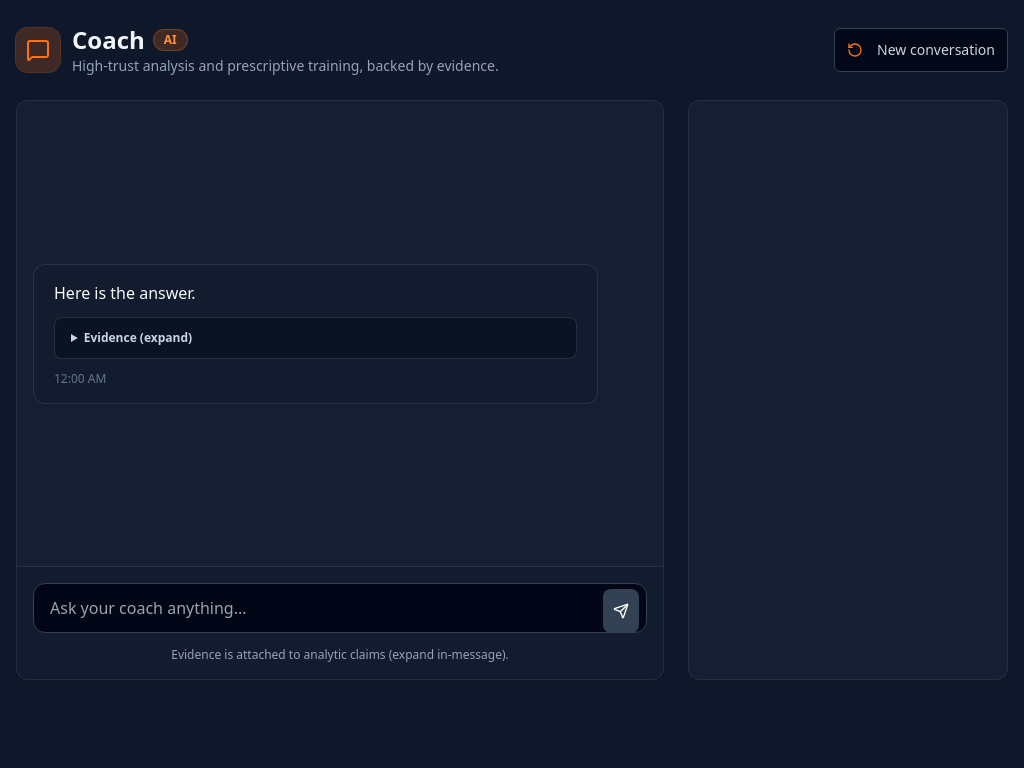
Test: Subscriber value deep-dive (Manual redirect + PBs + Coach evidence) › renders Coach evidence/receipts as an expandable section
Expected: the heading "Coach" is shown, top-left (72, 24), bottom-right (145, 56)
Click the heading "Evidence (expand)". click: (138, 337)
box: top-left (84, 328), bottom-right (192, 346)
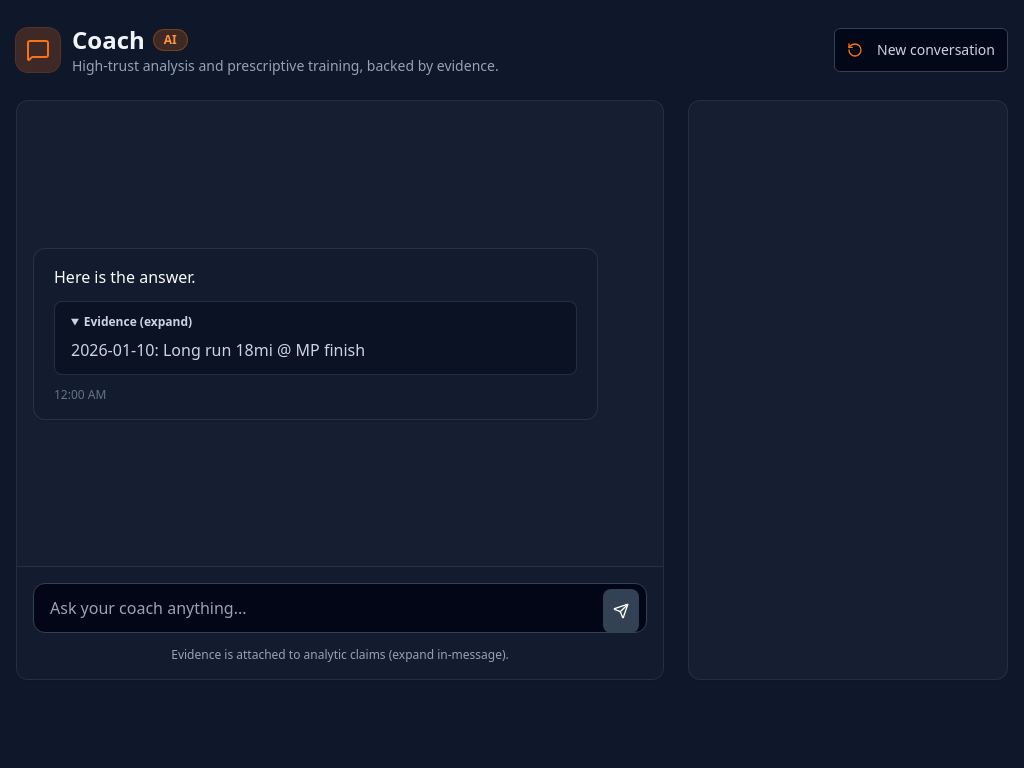
Now the list item "2026-01-10: Long run 18mi @ MP finish" is shown, box top-left (71, 338), bottom-right (365, 360)
